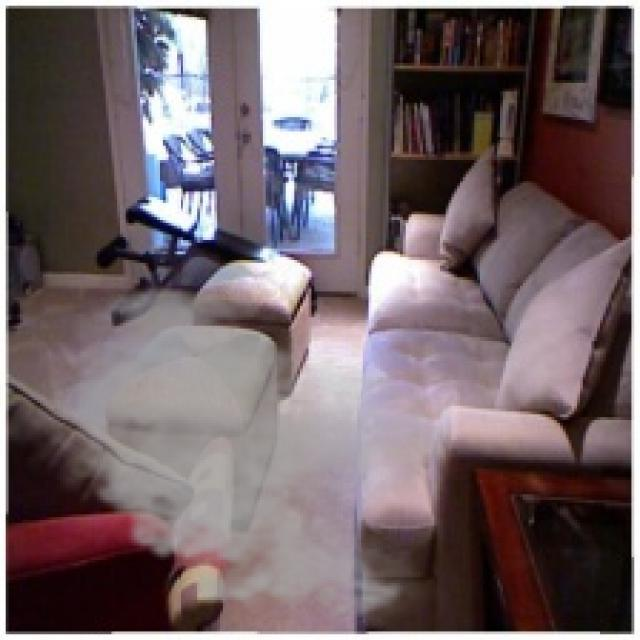Smoke: (39, 277, 452, 629)
